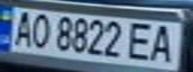2: (103, 18, 130, 60), (87, 17, 109, 56)
8: (51, 14, 75, 52), (69, 15, 90, 54)
A: (145, 21, 184, 64), (6, 9, 36, 47)
E: (124, 20, 160, 62)
O: (27, 11, 54, 50)
